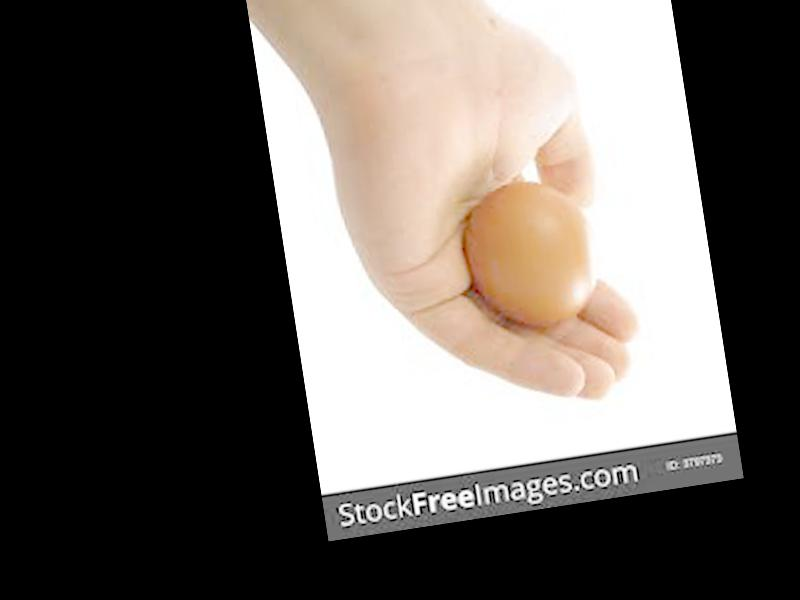Eggs: (459, 171, 604, 345)
